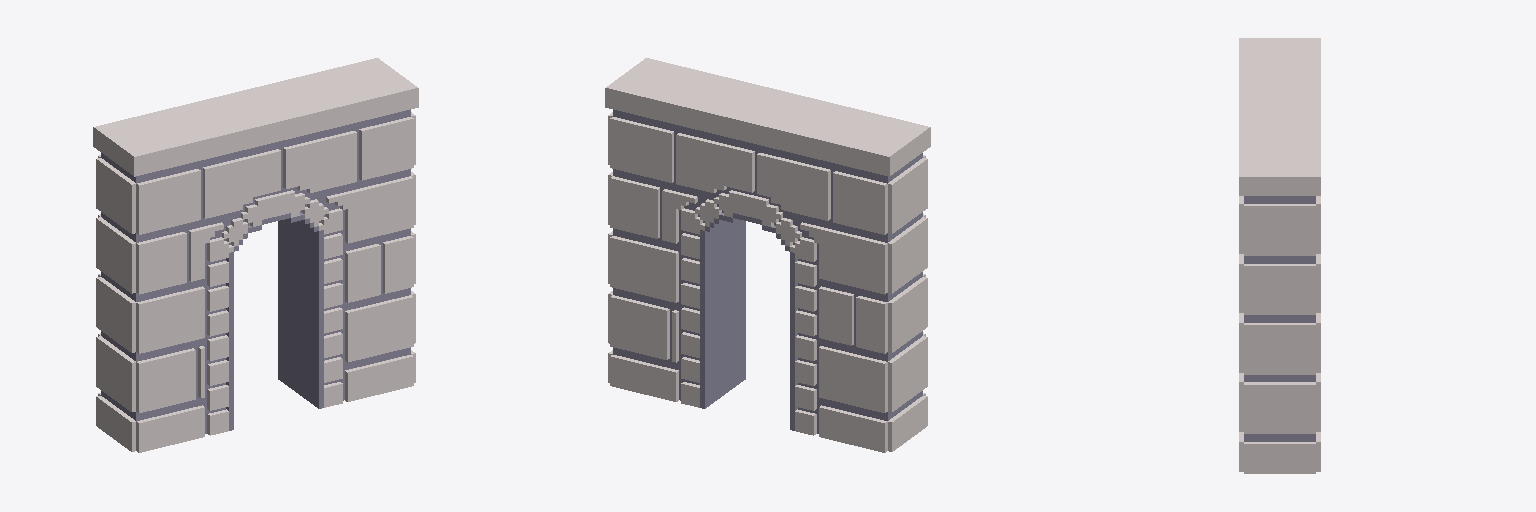
3 renders of one model, left to right at view 1: azimuth 30°, elevation 25°; view 2: azimuth 150°, elevation 25°; view 3: azimuth 270°, elevation 25°, orthographic.
Visible parts, largest first — view 1: object 1; view 2: object 1; view 3: object 1.
Boxes of the visible parts, x1,y1,x2,y2 form: object 1: [93, 58, 418, 452]; object 1: [605, 58, 930, 452]; object 1: [1239, 38, 1320, 473].
Bounding box in the file's own units: 6 × 6 × 1.5.
Materials: 1 (1 with a texture image).